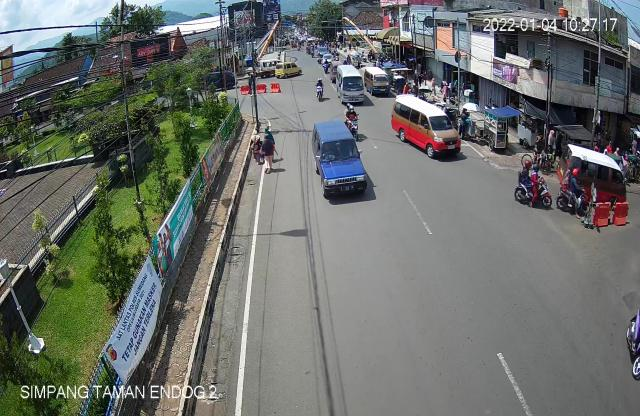Mobil: (553, 134, 632, 209), (389, 90, 462, 171), (307, 120, 372, 204)
Motor: (512, 156, 555, 211), (554, 168, 593, 217), (344, 104, 371, 138)
